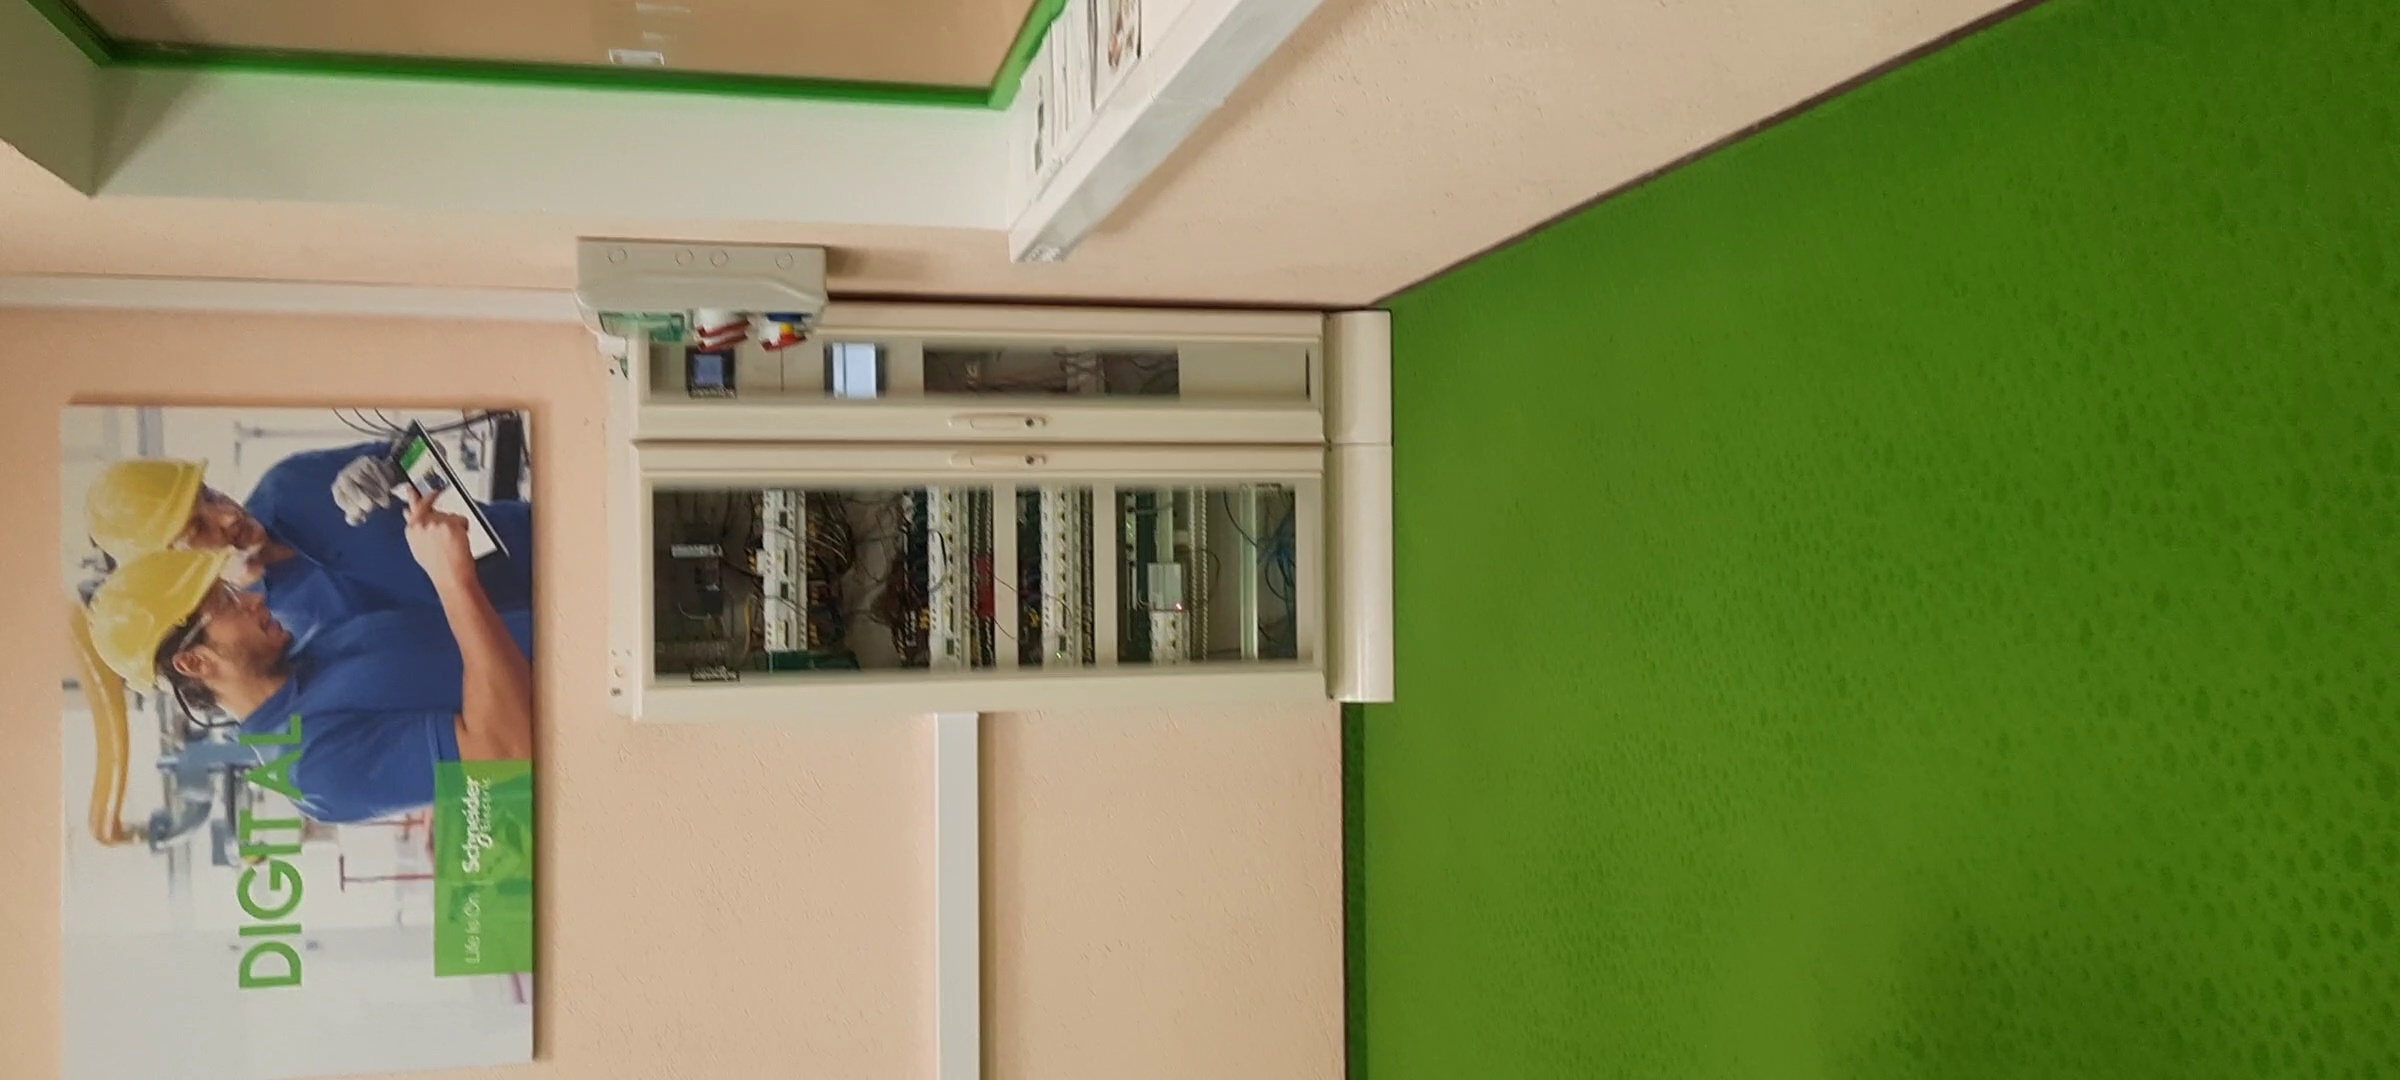stand1: (635, 311, 1393, 710)
